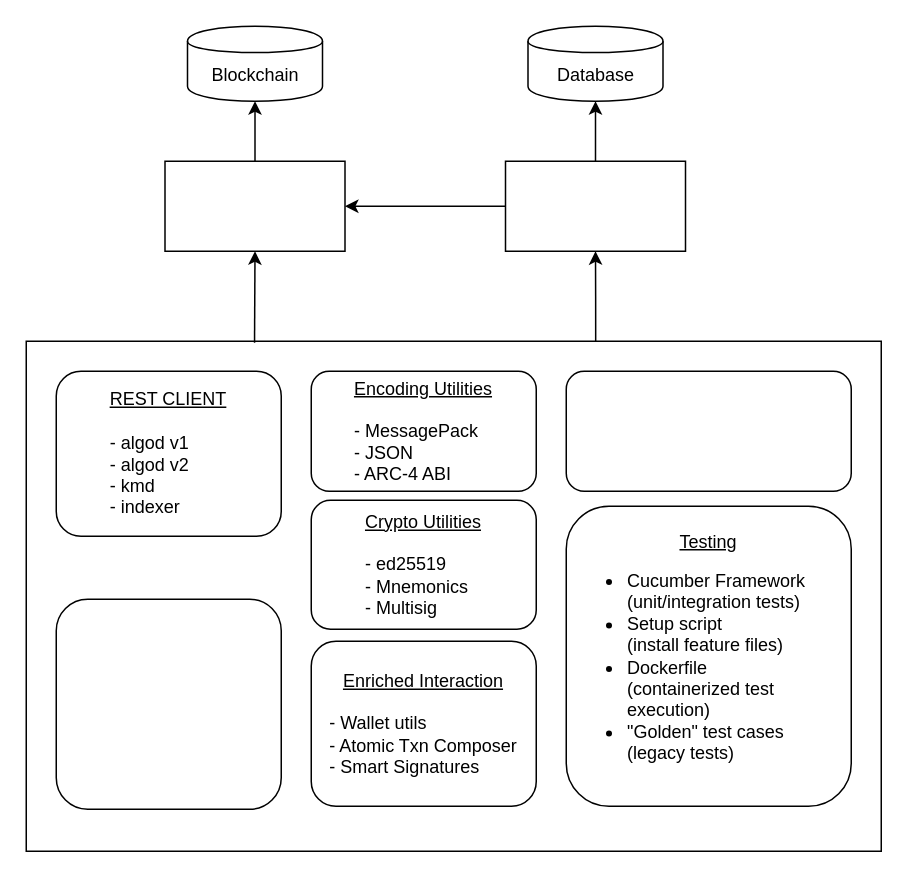
This 908x878 diagram has some shape labels left out. Each missing label, with the centre of its shape:
"algod" goes at pixel 254 205.
"dApp Testing - Dryrun Helpers - Simulate" goes at pixel 708 430.
"Indexer" goes at pixel 595 205.
"Transaction Utils - Payment - Key Registration - Asset Config - etc" goes at pixel 168 703.
